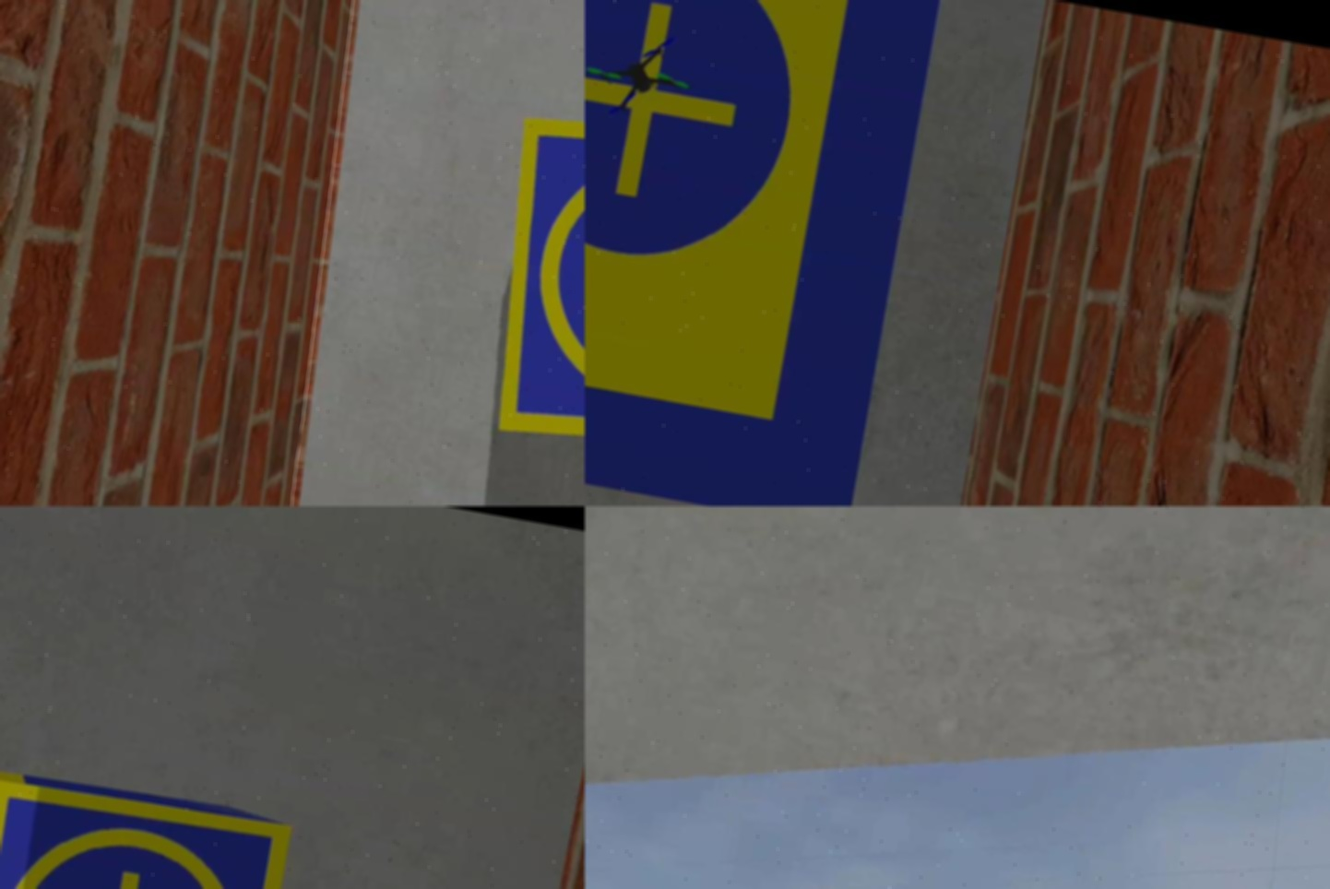large_base: (585, 1, 944, 506)
small_base: (463, 90, 585, 494), (1, 772, 293, 889)
